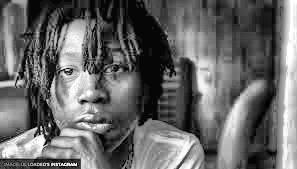sad: (19, 52, 164, 146)
